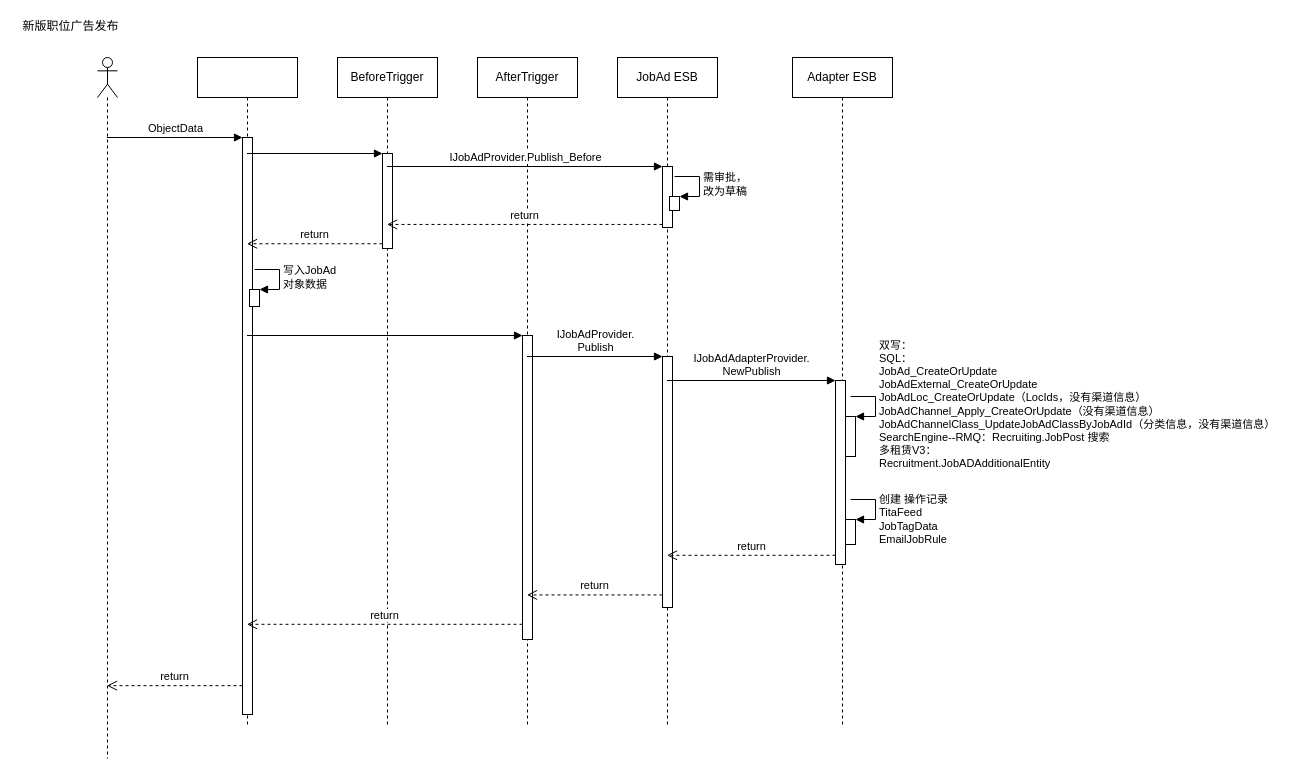
Image size: 1292x776. Some labels were removed from this diagram. Here are the shapes that lost their labels. From the top down, the box of each, then its label:
(96, 56, 118, 758): User s
(196, 56, 298, 728): BeisenCloud
